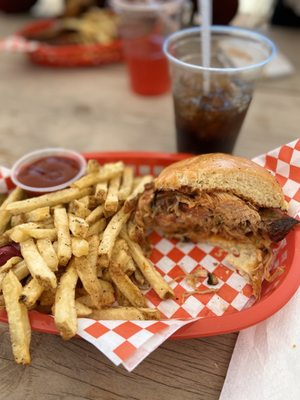pizza: (162, 25, 278, 155)
